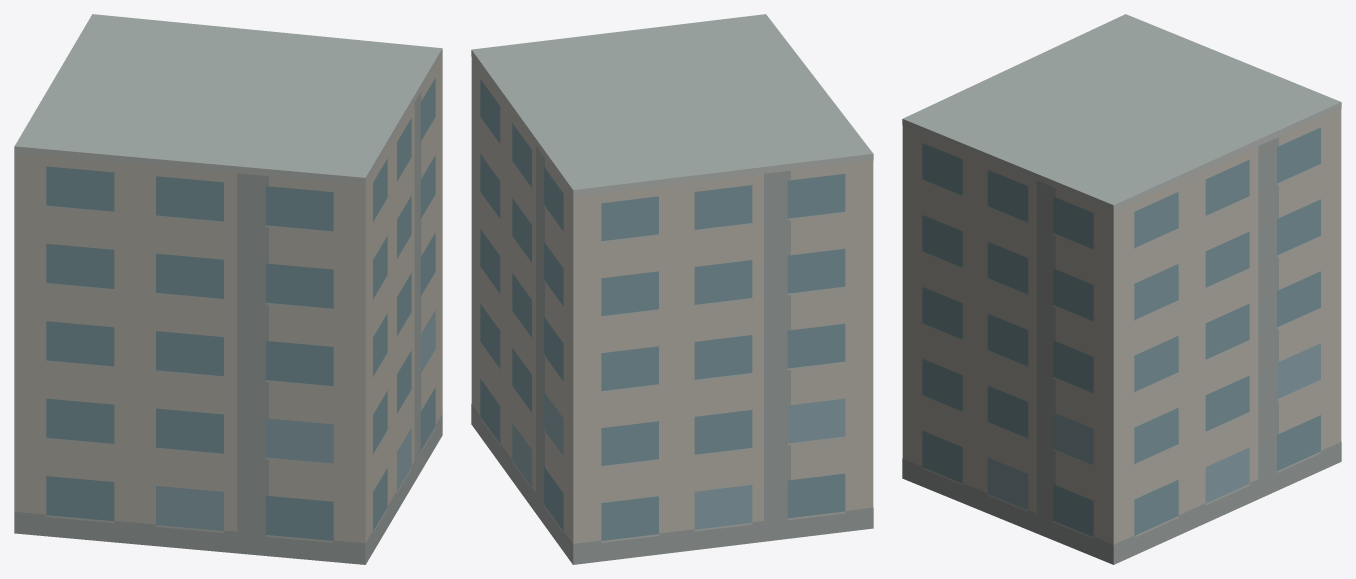
The model's file is survey-upis-32981556.glb.
The picture shows the model from 3 angles, left to right: view 1: azimuth 30°, elevation 25°; view 2: azimuth 150°, elevation 25°; view 3: azimuth 270°, elevation 25°; orthographic projection. The views are drawn at different scales.
Parts seen in each view (by area): view 1: survey-upis-32981556.tmp; view 2: survey-upis-32981556.tmp; view 3: survey-upis-32981556.tmp.
Boxes of the visible parts, <box> form: survey-upis-32981556.tmp: <box>14,14,442,564</box>; survey-upis-32981556.tmp: <box>471,14,873,564</box>; survey-upis-32981556.tmp: <box>902,14,1341,564</box>.
Size of the model in its own units: 15.28 by 13.4 by 14.83.
